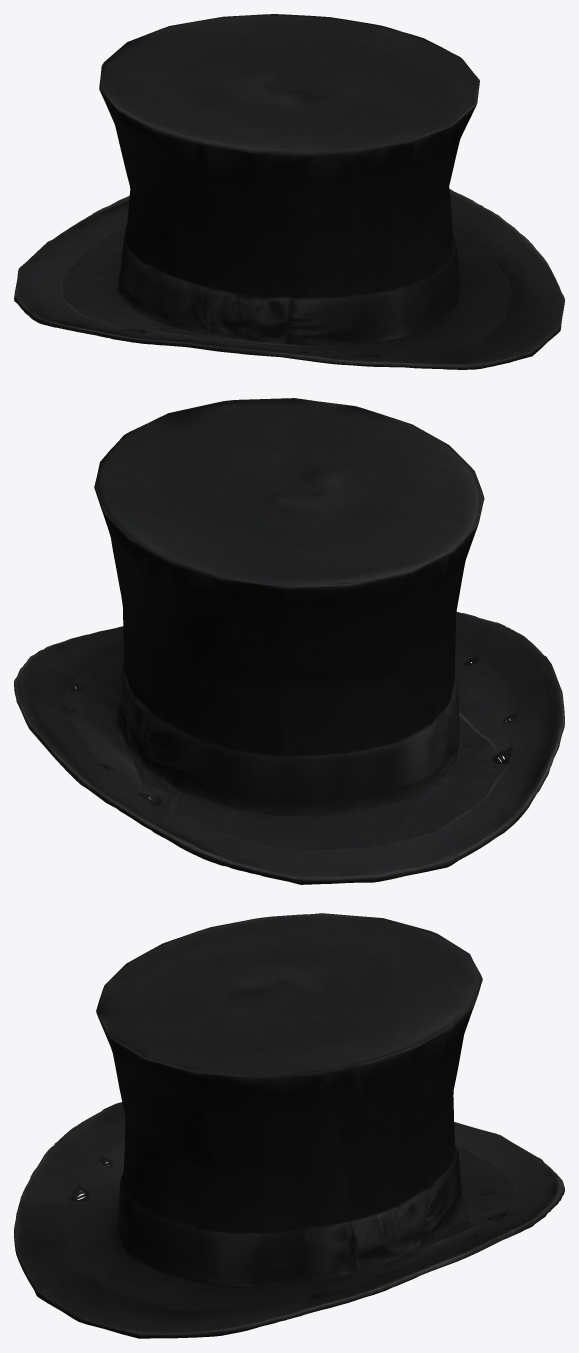
File: hat6.glb
3 renders of one model, top to bottom at view 1: azimuth 30°, elevation 25°; view 2: azimuth 150°, elevation 25°; view 3: azimuth 270°, elevation 25°, orthographic. The views are drawn at different scales.
Visible parts, largest first — view 1: Mesh1.006; view 2: Mesh1.006; view 3: Mesh1.006.
Boxes of the visible parts, left/top/right/bottom form: Mesh1.006: left=14, top=14, right=564, bottom=369; Mesh1.006: left=14, top=398, right=564, bottom=884; Mesh1.006: left=14, top=913, right=564, bottom=1338.
Size of the model in its own units: 1.83 by 0.8736 by 1.83.
1 material, 1 textured.
